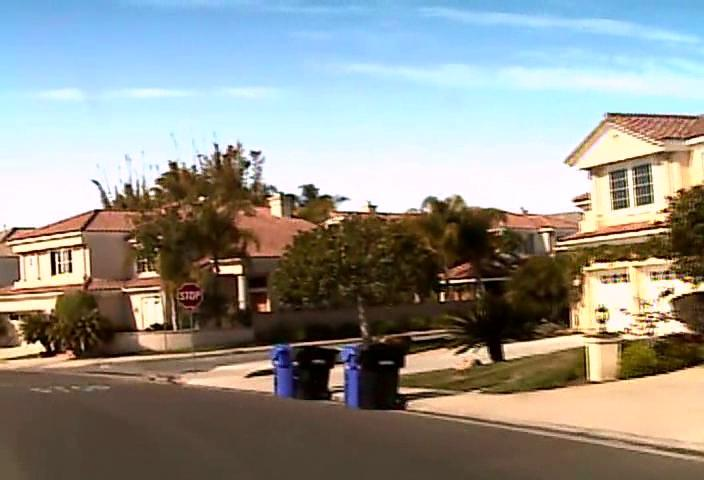stop: (176, 282, 203, 308)
